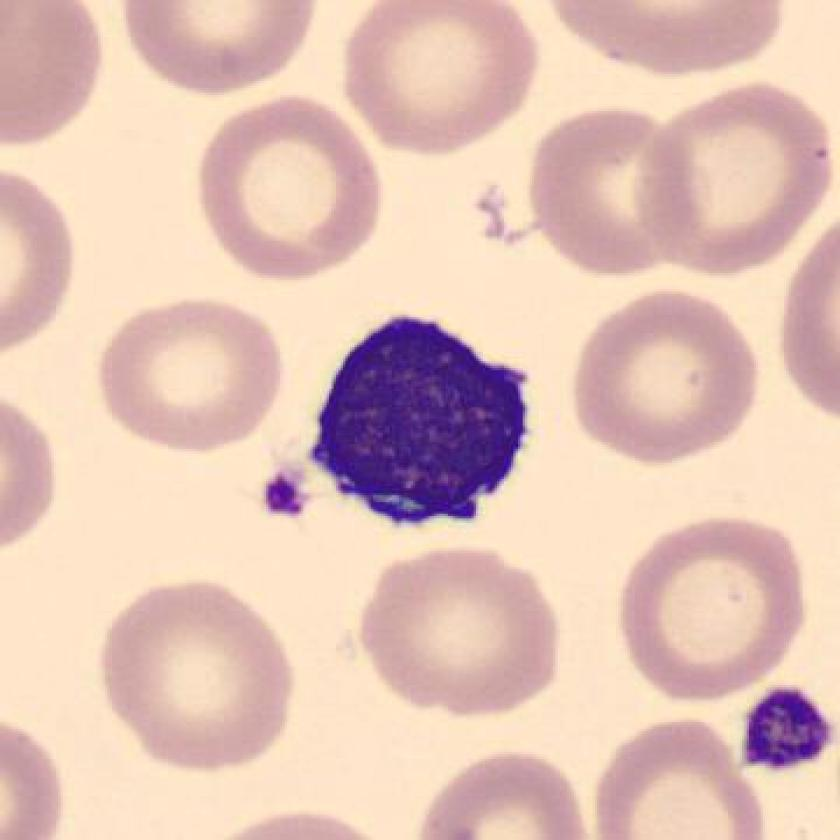lymphocyte: (290, 302, 552, 545)
